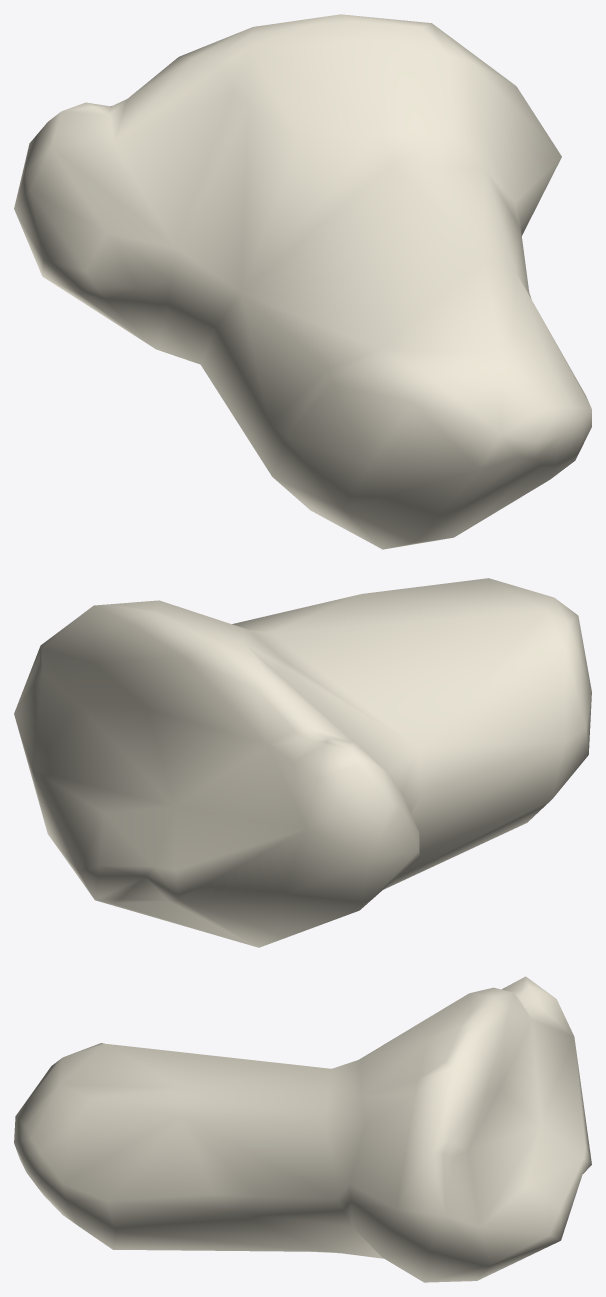
3 views of the same model, one above another, from view 1: azimuth 30°, elevation 25°; view 2: azimuth 150°, elevation 25°; view 3: azimuth 270°, elevation 25° (orthographic). The views are drawn at different scales.
Parts seen in each view (by area): view 1: ZA_b0bb4f092e61f4cc; view 2: ZA_b0bb4f092e61f4cc; view 3: ZA_b0bb4f092e61f4cc.
Part boxes in pixels (x1,y1,x2,y2): ZA_b0bb4f092e61f4cc: (14,14,591,549); ZA_b0bb4f092e61f4cc: (14,578,591,947); ZA_b0bb4f092e61f4cc: (14,976,591,1282).
Bounding box in the file's own units: 0.00885 × 0.00616 × 0.012.
